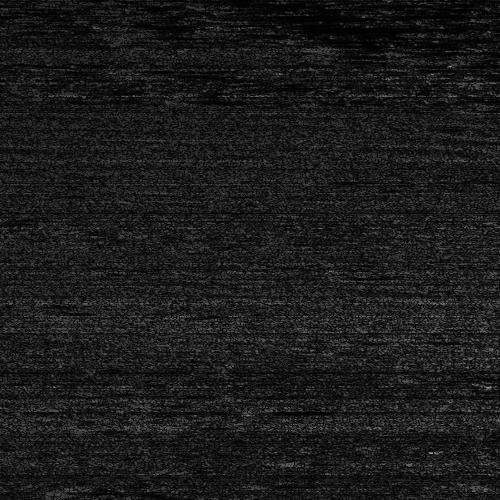rock: (176, 12, 259, 19), (452, 78, 500, 87), (207, 408, 260, 413)
shadow: (218, 12, 371, 19), (234, 408, 292, 413)
